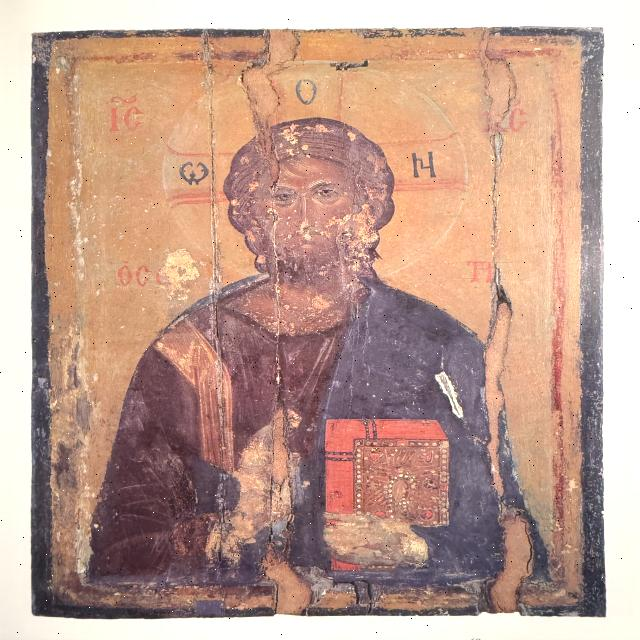aura: (164, 60, 474, 296)
book: (318, 416, 456, 586)
christ: (76, 54, 550, 597)
christ_hand: (186, 388, 326, 576)
